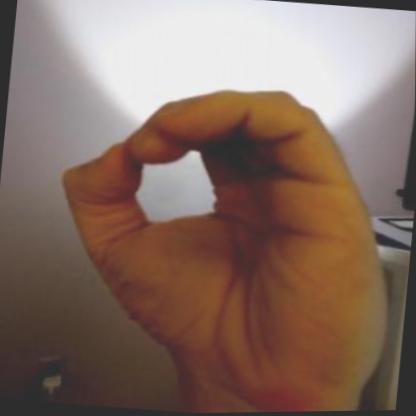O: (22, 53, 416, 416)
